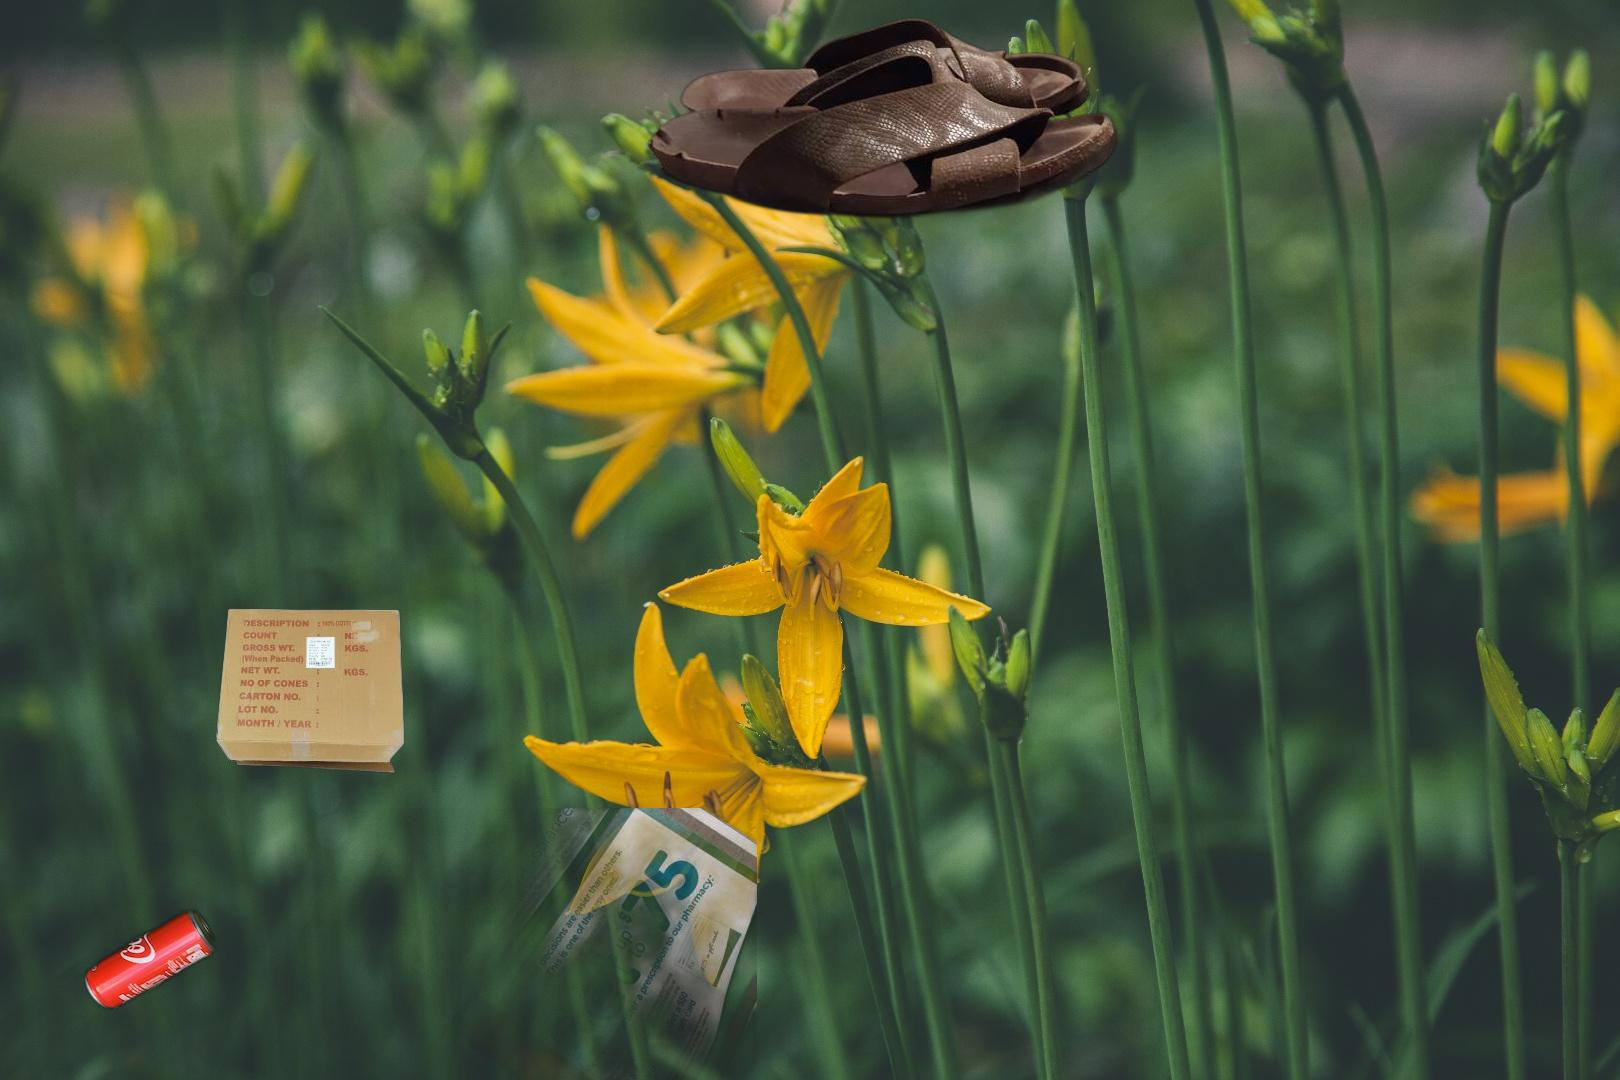metal-cans: (22, 804, 534, 1080)
paper: (245, 808, 757, 1080)
shoes: (641, 14, 1125, 265)
trashbox-cardboard: (213, 606, 407, 776)
